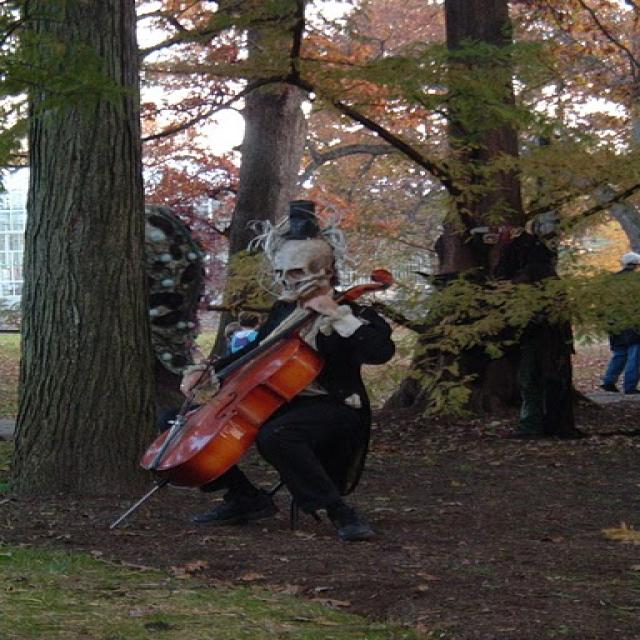cello: (140, 267, 399, 498)
